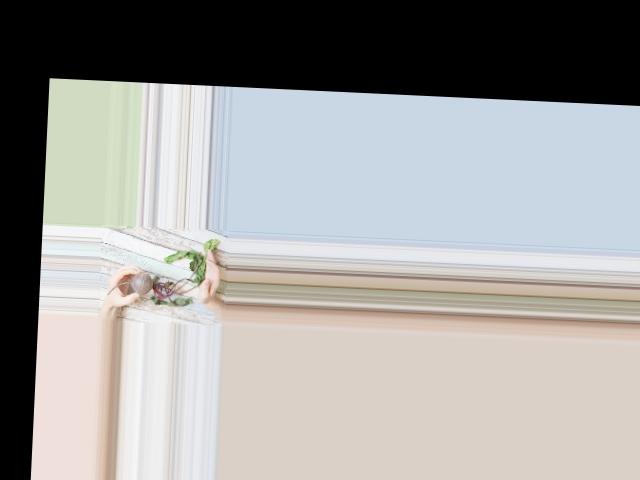beet: (106, 233, 219, 307)
